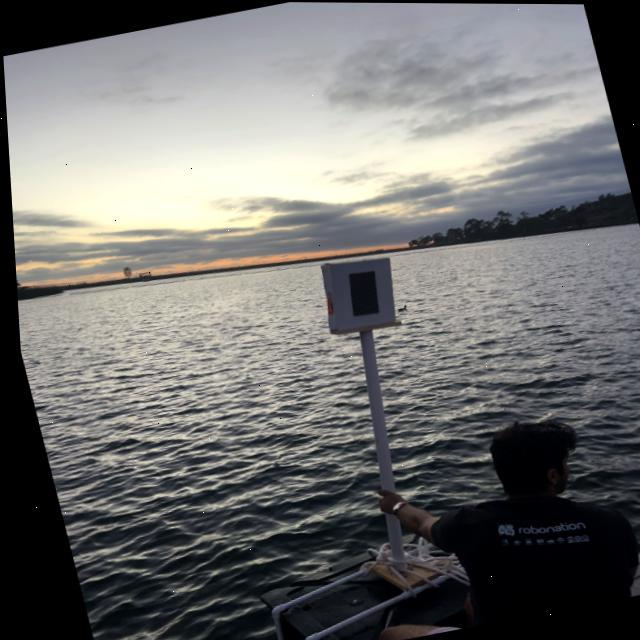led: (327, 255, 396, 332)
